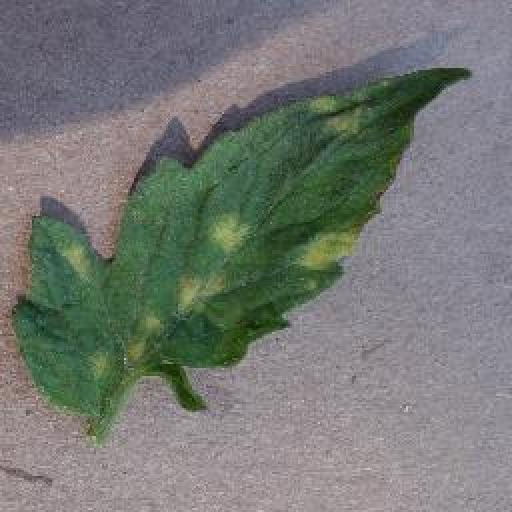disease_tomato: (16, 67, 470, 417)
